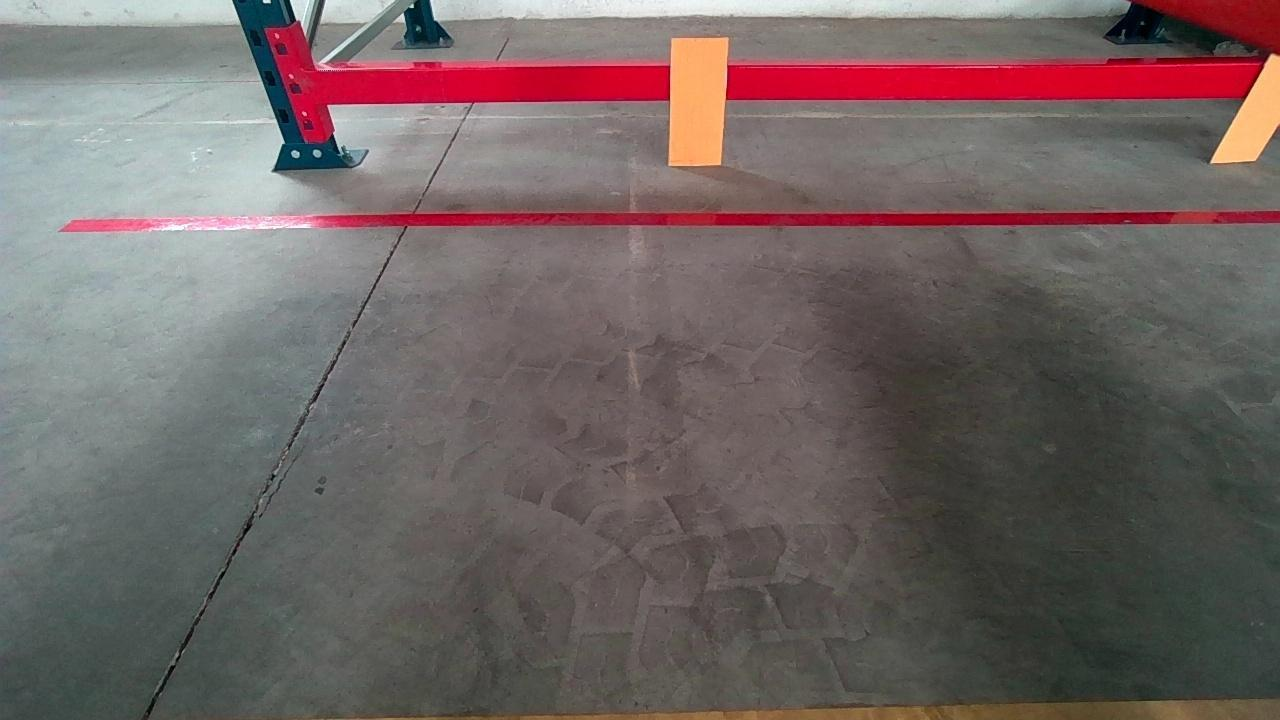h_rack: (314, 55, 1257, 111)
orange_strip: (669, 38, 728, 165), (1216, 47, 1280, 162)
red_line: (55, 205, 1278, 235)
yellow_line: (606, 690, 1280, 720)
